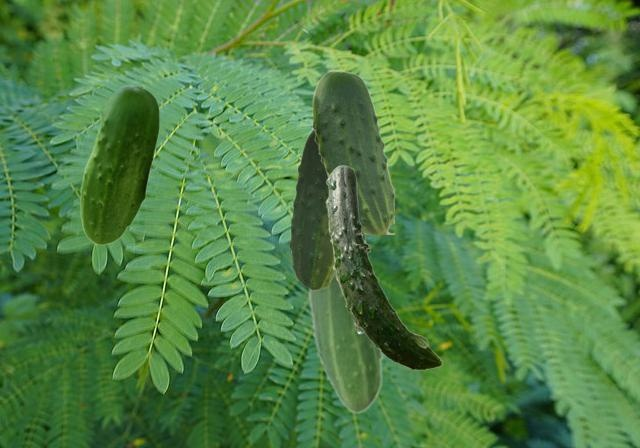cucumber: (325, 165, 441, 369), (305, 234, 383, 413), (312, 70, 393, 233), (80, 85, 158, 244), (289, 129, 334, 289)
